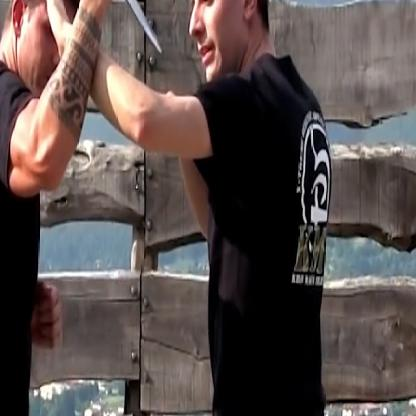knife: (74, 0, 166, 61)
